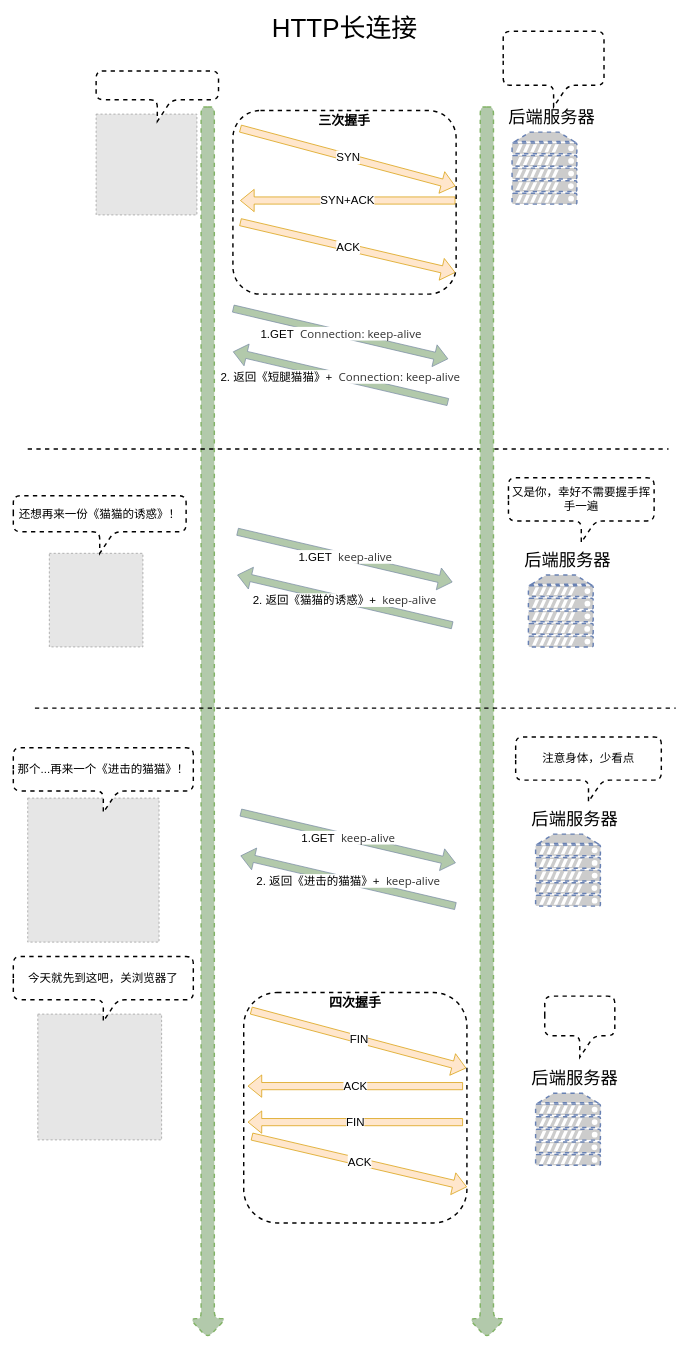
The diagram is 688 pixels wide and 1351 high, and some of its shapes have lost their labels. Grey dashed boxes stand in for pictures. The centre of each missing label's shape, as x and y in pixels:
"就这？" belongs at [579,1026].
"收到，处理中。我正好支持长连接" belongs at [553,68].
"来一份 《短腿猫猫》！" belongs at [157,96].
